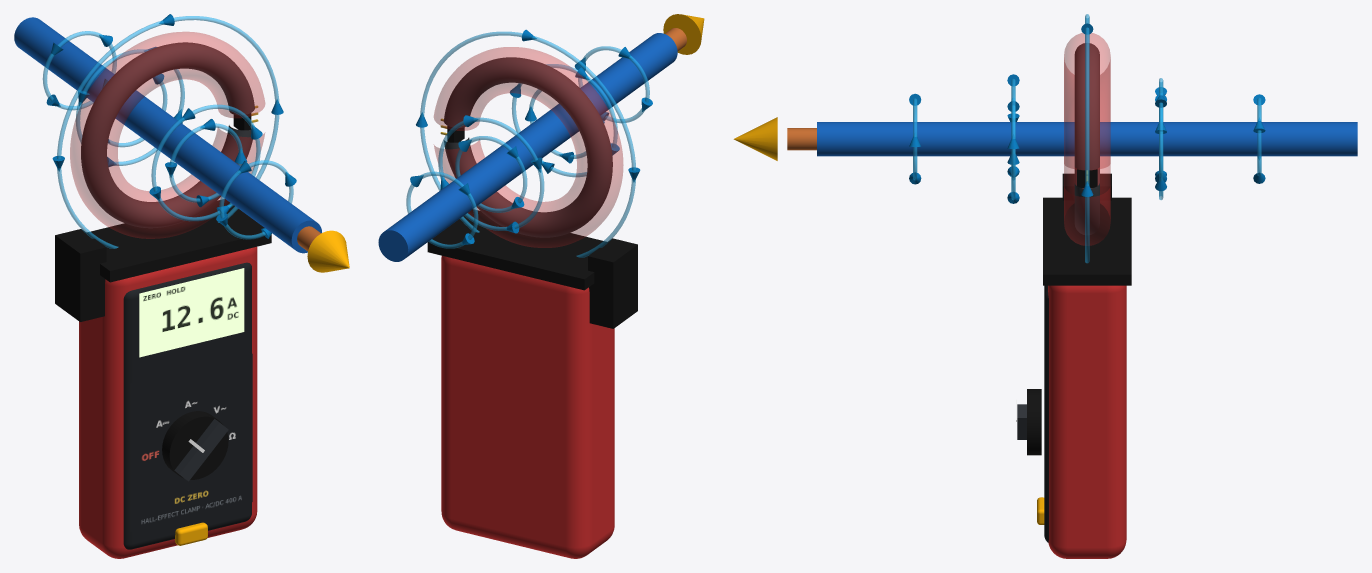
File: clamp.glb
3 views of the same model, side by side, from view 1: azimuth 30°, elevation 25°; view 2: azimuth 150°, elevation 25°; view 3: azimuth 270°, elevation 25° (orthographic). The views are drawn at different scales.
Parts seen in each view (by area): view 1: JawShell, MeterBody, ClampFace, Conductor, FerriteCore, MeterFace, HandGuard, ClampLCD, JawLever, FieldRing4, ClampKnob, CurrentArrow (+7 smaller); view 2: MeterBody, JawShell, Conductor, FerriteCore, HandGuard, JawLever, FieldRing4, FieldRing3, CurrentArrow, FieldRing1, FieldRing2, FieldRing6 (+1 smaller); view 3: MeterBody, Conductor, JawShell, HandGuard, FerriteCore, MeterFace, FieldRing4, CurrentArrow, ClampKnob.
Part boxes in pixels (x1,y1,x2,y2): JawShell: [70, 32, 265, 238]; MeterBody: [79, 246, 257, 558]; ClampFace: [130, 353, 252, 531]; Conductor: [14, 17, 321, 253]; FerriteCore: [81, 42, 254, 228]; MeterFace: [123, 262, 251, 549]; HandGuard: [87, 199, 271, 282]; ClampLCD: [139, 268, 244, 357]; JawLever: [55, 229, 106, 321]; FieldRing4: [57, 16, 279, 248]; ClampKnob: [162, 411, 228, 479]; CurrentArrow: [307, 230, 349, 272]; MeterBody: [441, 255, 614, 558]; JawShell: [434, 47, 623, 247]; Conductor: [378, 33, 677, 261]; FerriteCore: [443, 57, 612, 237]; HandGuard: [427, 209, 606, 290]; JawLever: [588, 238, 637, 328]; FieldRing4: [420, 31, 635, 257]; FieldRing3: [438, 117, 544, 230]; CurrentArrow: [663, 14, 704, 54]; FieldRing1: [511, 64, 617, 177]; FieldRing2: [455, 136, 527, 212]; FieldRing6: [406, 171, 478, 248]; MeterBody: [1048, 285, 1126, 558]; Conductor: [817, 122, 1357, 156]; JawShell: [1064, 33, 1110, 245]; HandGuard: [1043, 197, 1131, 285]; FerriteCore: [1074, 43, 1099, 234]; MeterFace: [1044, 285, 1048, 542]; FieldRing4: [1085, 14, 1089, 263]; CurrentArrow: [733, 117, 777, 160]; ClampKnob: [1027, 389, 1041, 455].
Bounding box in the file's own units: 0.1051 × 0.2276 × 0.254.
21 materials, 2 textured.
